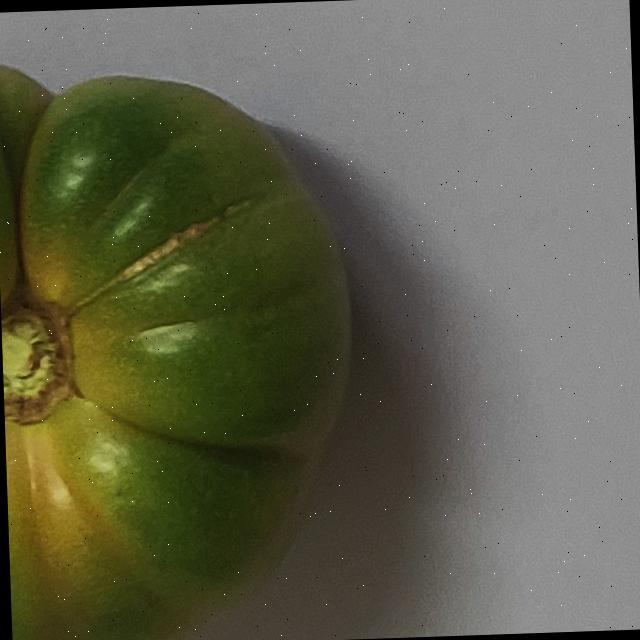tomato: (0, 0, 479, 640)
